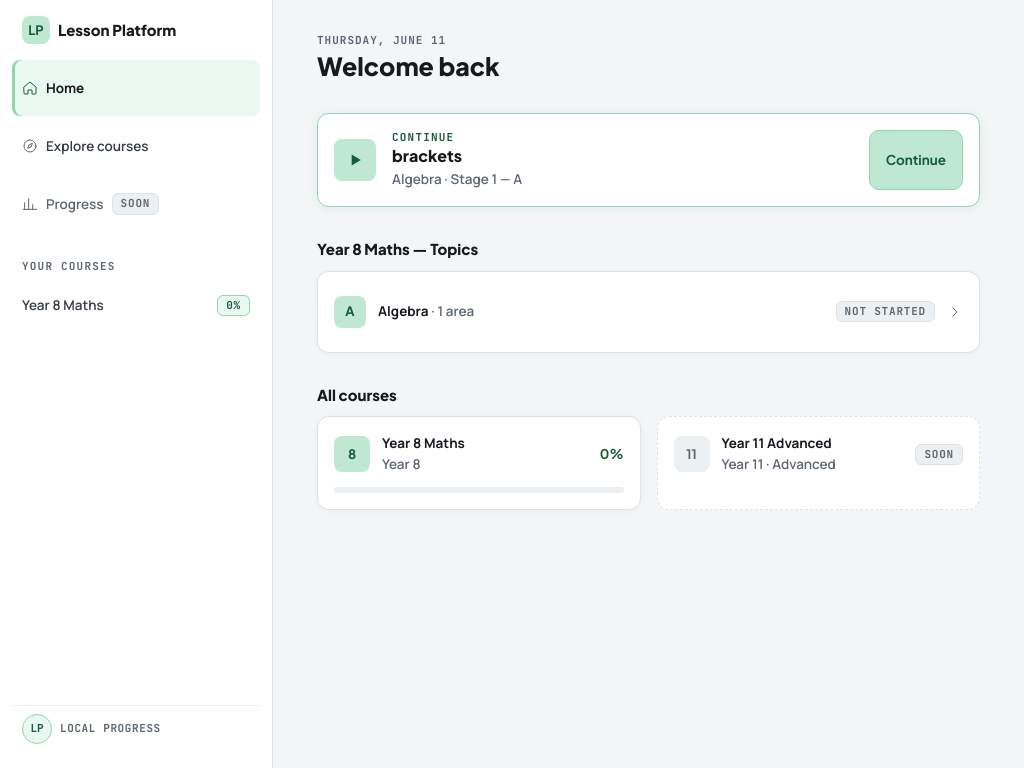
Test: Explore courses (/explore) › is reachable from the sidebar and groups courses Senior/Junior
Click the link "Explore courses" at (85, 146), box [22,136,148,154]
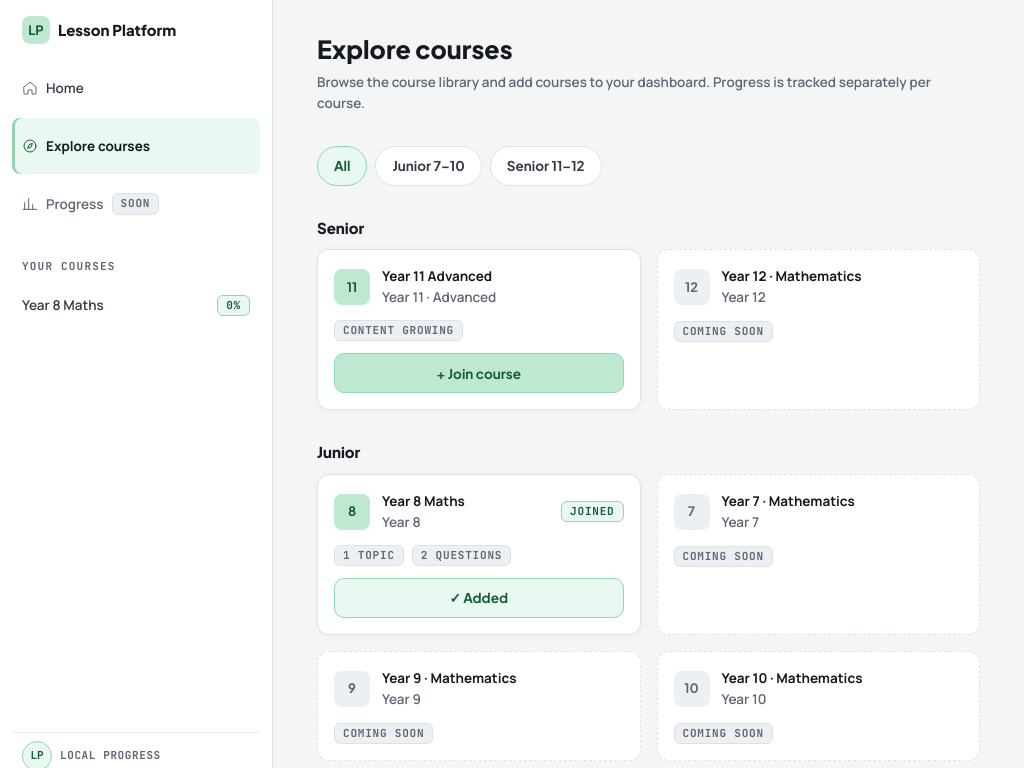
Expected: the link "Year 11 Advanced" is shown, [382,267,492,285]
Now the heading "Explore courses" is shown, box [317,33,512,65]
